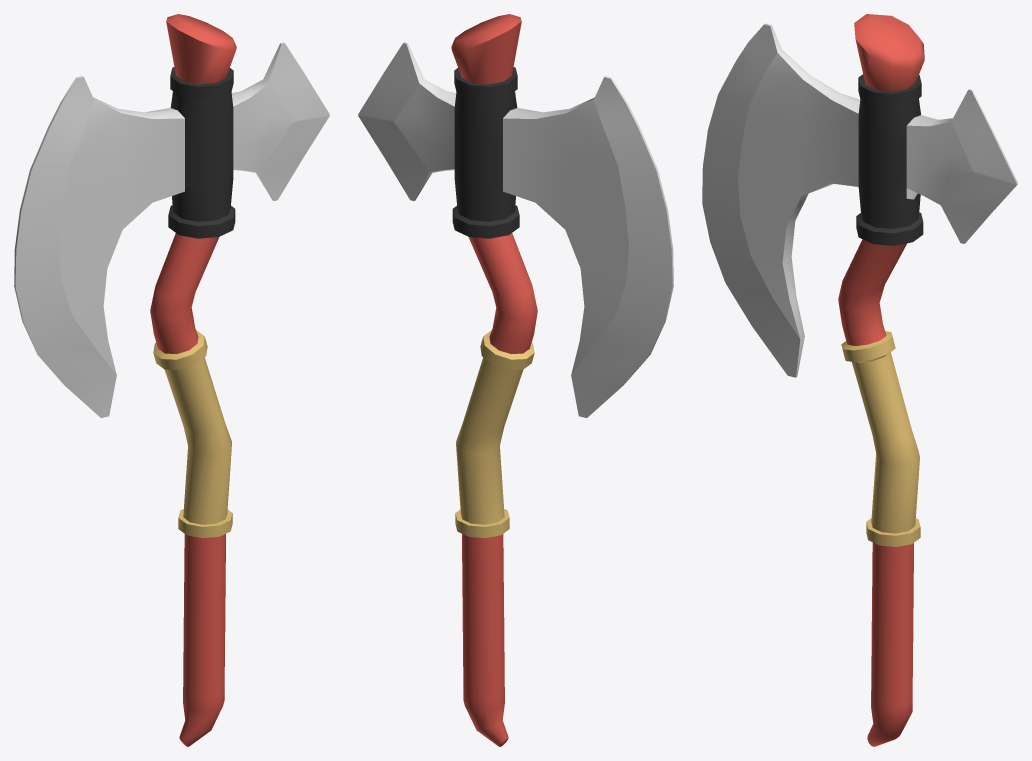
Rendered from Axe_3.fbx.
3 renders of one model, left to right at view 1: azimuth 30°, elevation 25°; view 2: azimuth 150°, elevation 25°; view 3: azimuth 330°, elevation 25°, orthographic.
Visible parts, largest first — view 1: LP; view 2: LP; view 3: LP.
Part boxes in pixels (bbox=[...]): LP: bbox=[14, 14, 329, 746]; LP: bbox=[358, 14, 673, 746]; LP: bbox=[702, 14, 1017, 746].
Bounding box in the file's own units: 2.82 × 6.24 × 0.6168.
